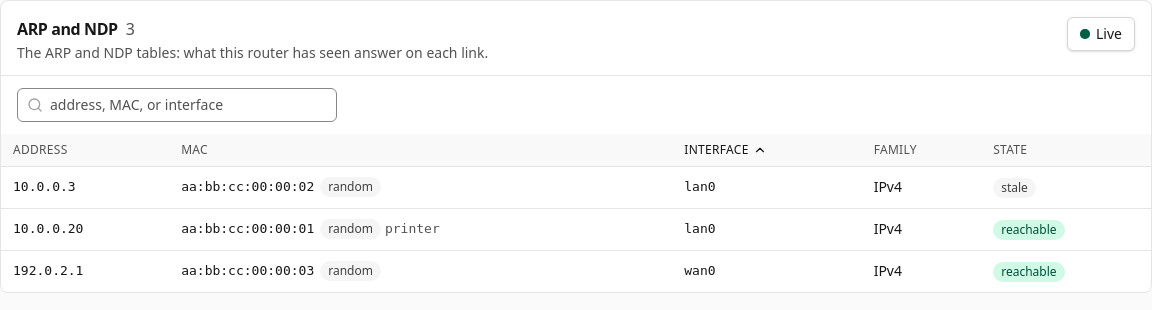
NeighboursPage › searches addresses, MACs and the names static leases give them
Type "printer" into the search field with placeholder "address, MAC, or interface" at (177, 105), box x1=17 y1=88 x2=337 y2=122
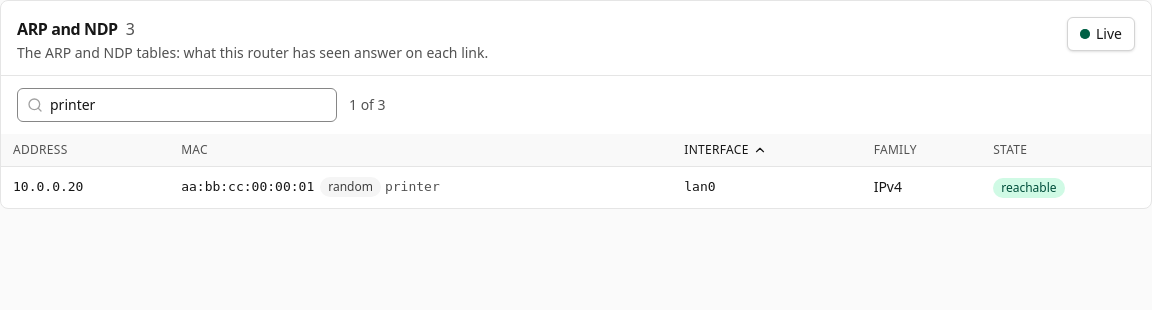
Check: the text "1 of 3" is shown, box x1=349 y1=95 x2=386 y2=115
Replace the text in the search field with "aabbcc000003" at (177, 105), box x1=17 y1=88 x2=337 y2=122
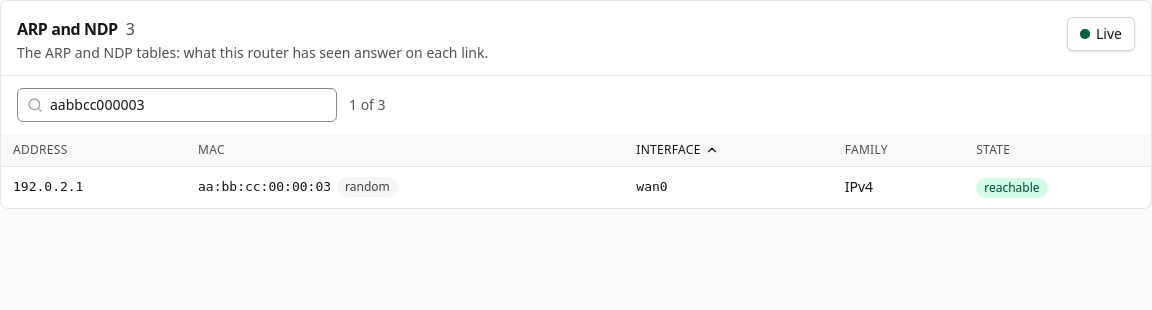
Replace the text in the search field with "nothing" at (177, 105), box x1=17 y1=88 x2=337 y2=122
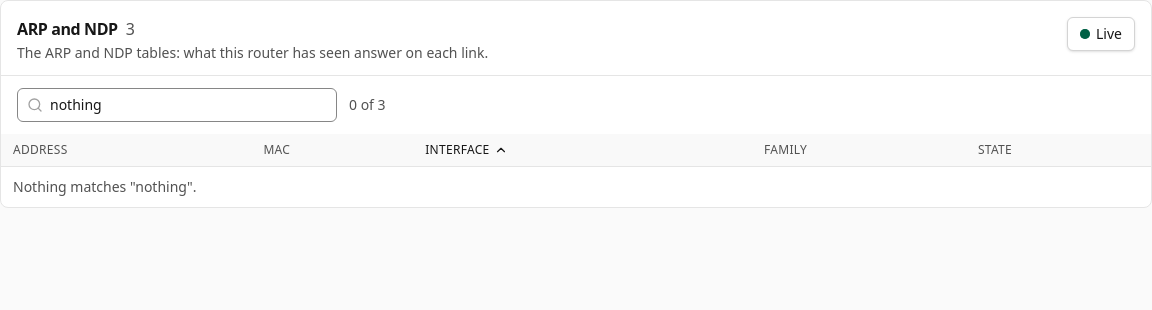
Check: the cell "Nothing matches \"nothing\"." reads "Nothing matches \"nothing\".", box x1=13 y1=177 x2=196 y2=196
